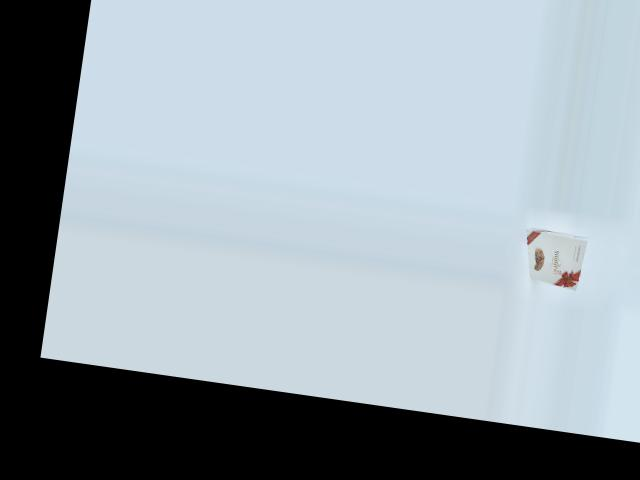chocolate: (516, 214, 588, 292)
